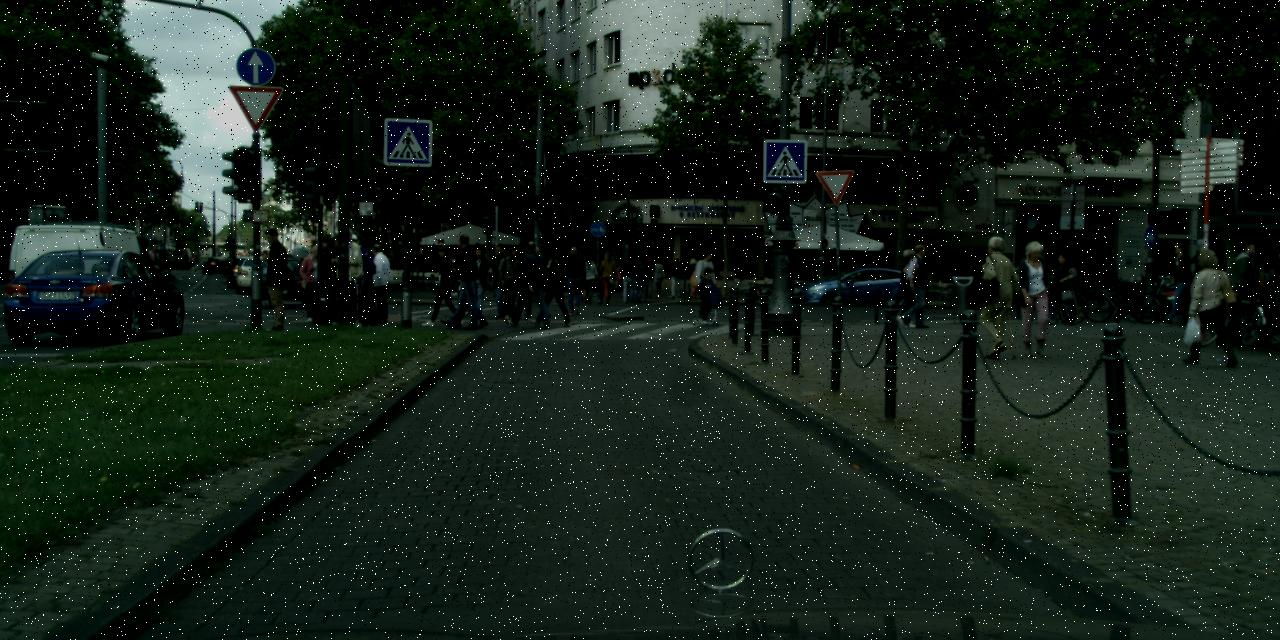ped: (970, 236, 1019, 355), (1186, 249, 1233, 364), (1011, 241, 1057, 353), (442, 233, 490, 331), (253, 228, 295, 332), (351, 235, 399, 324), (1236, 242, 1275, 340), (891, 244, 932, 329), (297, 233, 336, 322), (514, 241, 548, 325), (1163, 240, 1196, 322), (429, 245, 460, 322), (538, 248, 568, 326), (494, 246, 525, 320), (513, 247, 543, 320), (460, 245, 490, 316), (488, 243, 517, 315), (691, 249, 720, 319), (560, 246, 587, 312), (1188, 240, 1212, 300), (142, 243, 165, 301), (694, 266, 716, 322), (596, 250, 616, 302), (572, 245, 592, 296), (618, 253, 638, 301), (578, 254, 598, 302), (629, 256, 647, 301), (640, 255, 656, 298), (668, 256, 684, 296), (685, 257, 701, 297), (650, 258, 665, 294), (352, 324, 357, 324)
